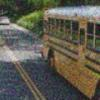buses: (40, 3, 100, 100)
